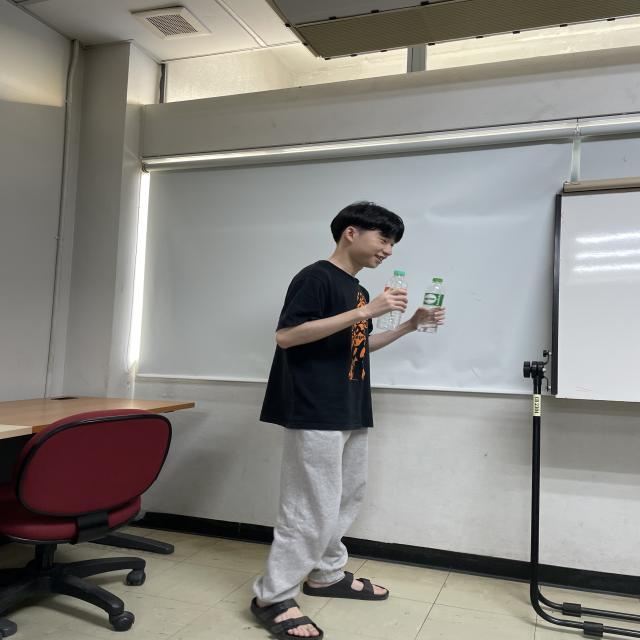bottle: (377, 269, 409, 332), (418, 276, 446, 334)
